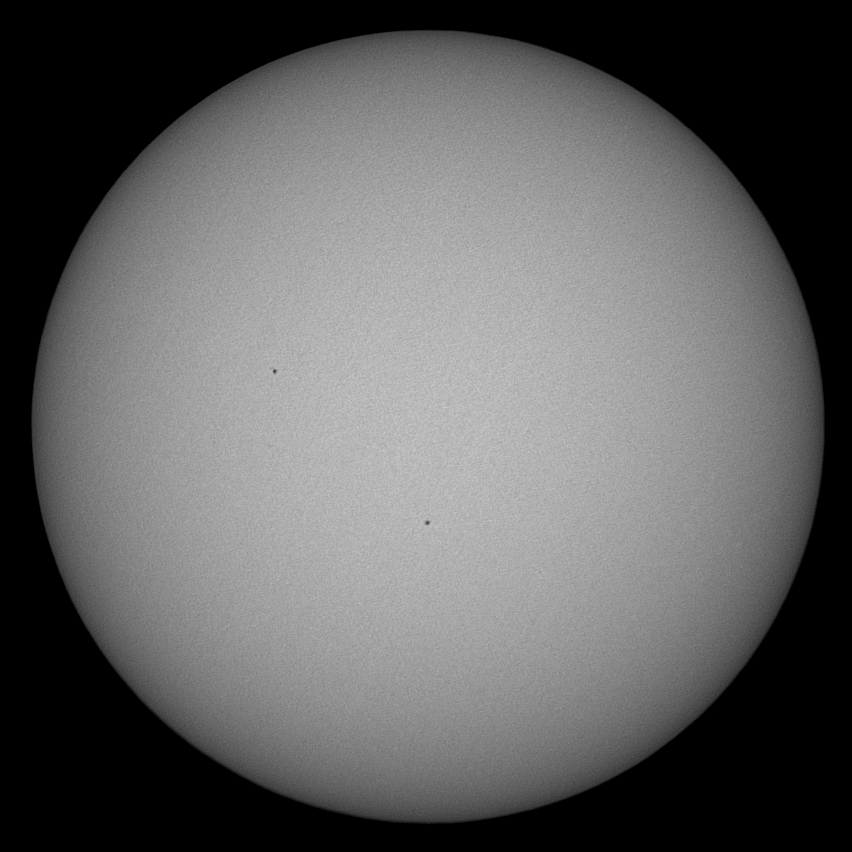sunspot: (420, 516, 437, 530), (267, 361, 282, 375)
